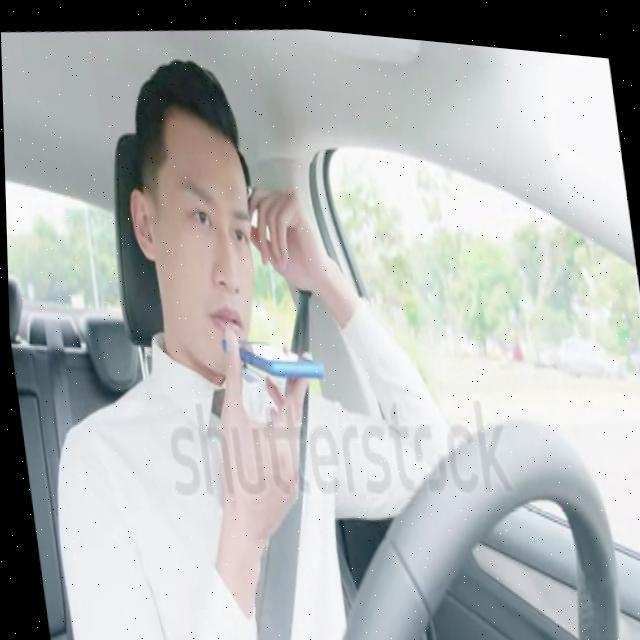PhoneCall: (215, 312, 326, 390)
